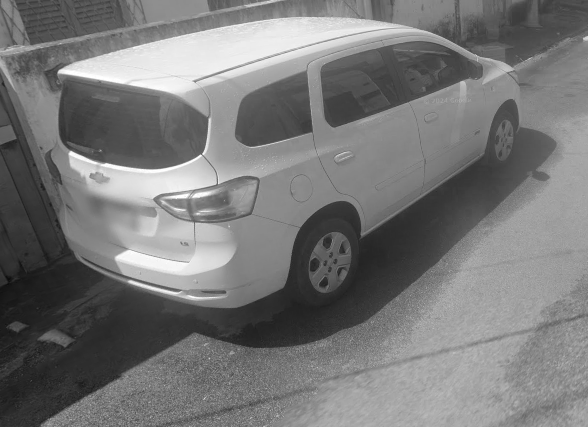car: (43, 11, 524, 315)
